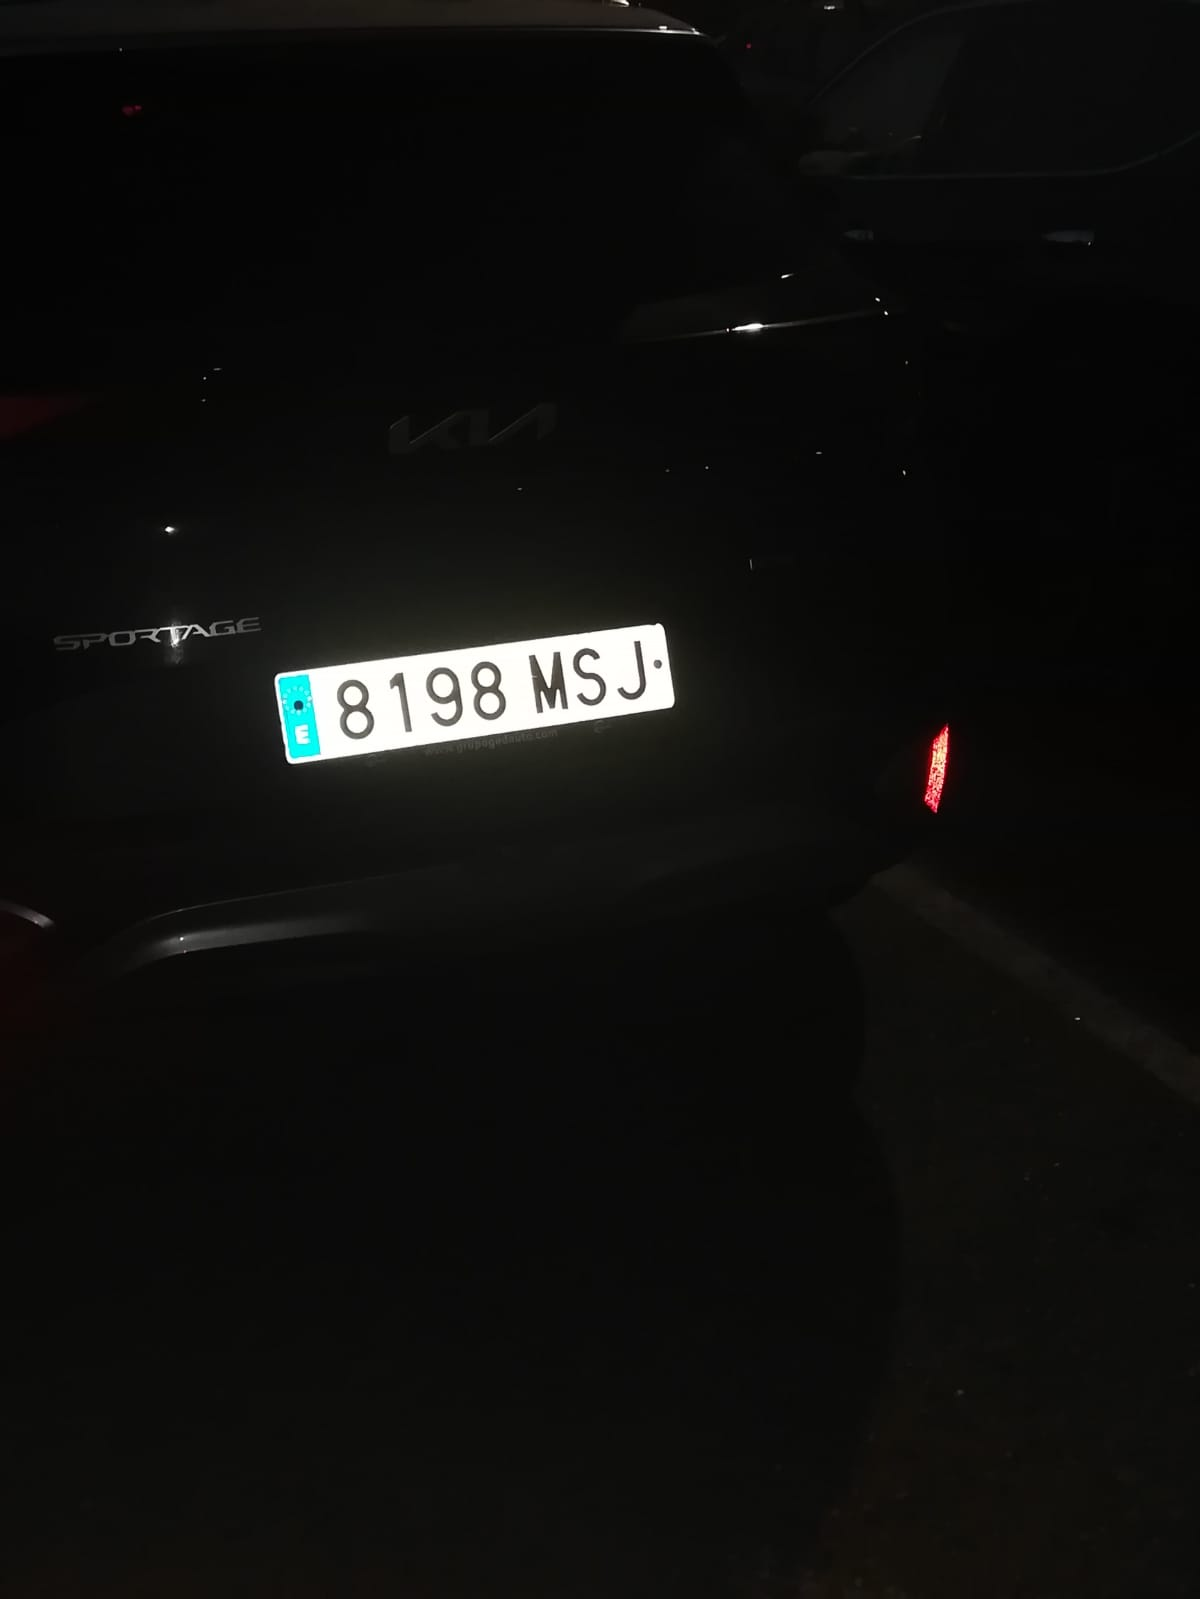Plate: (272, 678, 662, 766)
